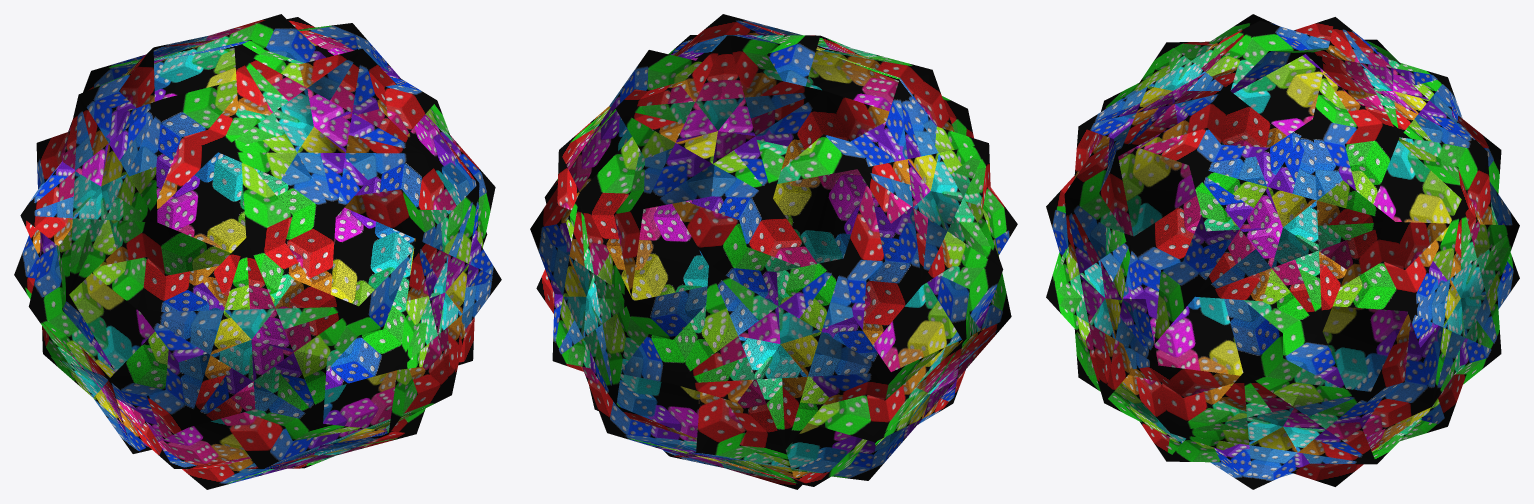
Rendered from 19SnubIcosidodecadodecahedron.gltf.
The picture shows the model from 3 angles, left to right: view 1: azimuth 30°, elevation 25°; view 2: azimuth 150°, elevation 25°; view 3: azimuth 270°, elevation 25°; orthographic projection.
Parts seen in each view (by area): view 1: 16SnubIcosidodecadodecahedron; view 2: 16SnubIcosidodecadodecahedron; view 3: 16SnubIcosidodecadodecahedron.
Part boxes in pixels (x1,y1,x2,y2): 16SnubIcosidodecadodecahedron: (14, 14, 501, 489); 16SnubIcosidodecadodecahedron: (530, 14, 1017, 489); 16SnubIcosidodecadodecahedron: (1046, 14, 1519, 489).
Bounding box in the file's own units: 2.21 × 2.21 × 2.21.
1 material, 1 textured.
